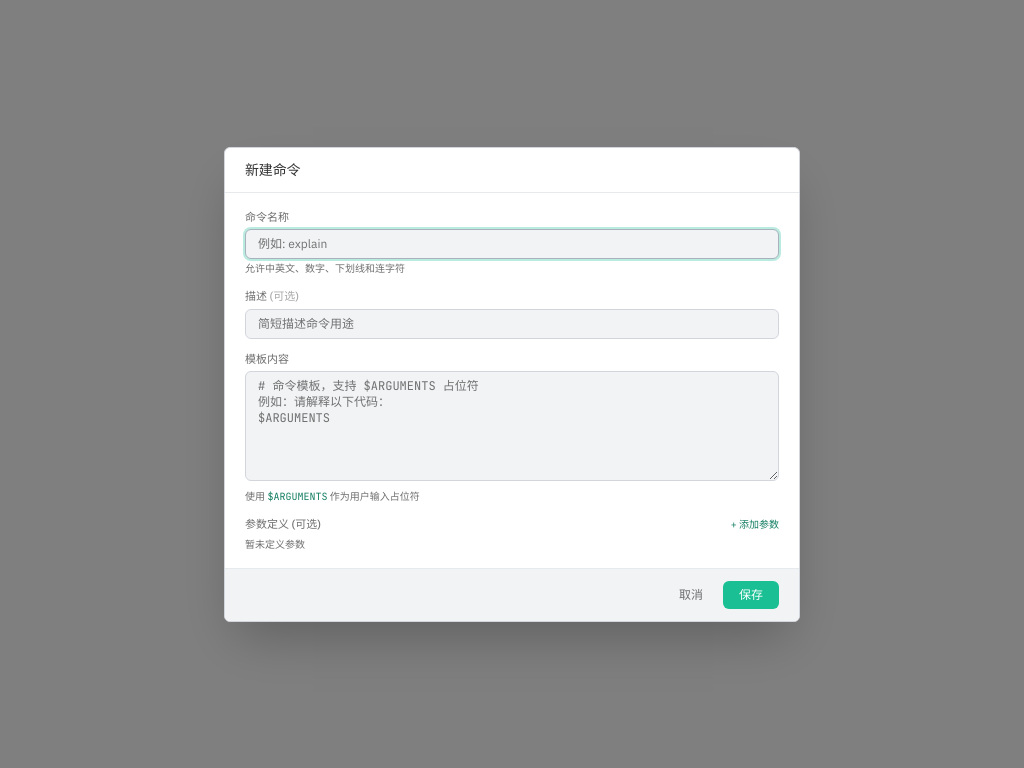
Test case: CommandEditModal 新建撞名即时提示 › 输入已存在的名称 → 立即内联报错，无需提交
The image size is (1024, 768).
Type "daily" into the field with placeholder "例如: explain". click: [512, 244]
box: x1=245 y1=229 x2=779 y2=259
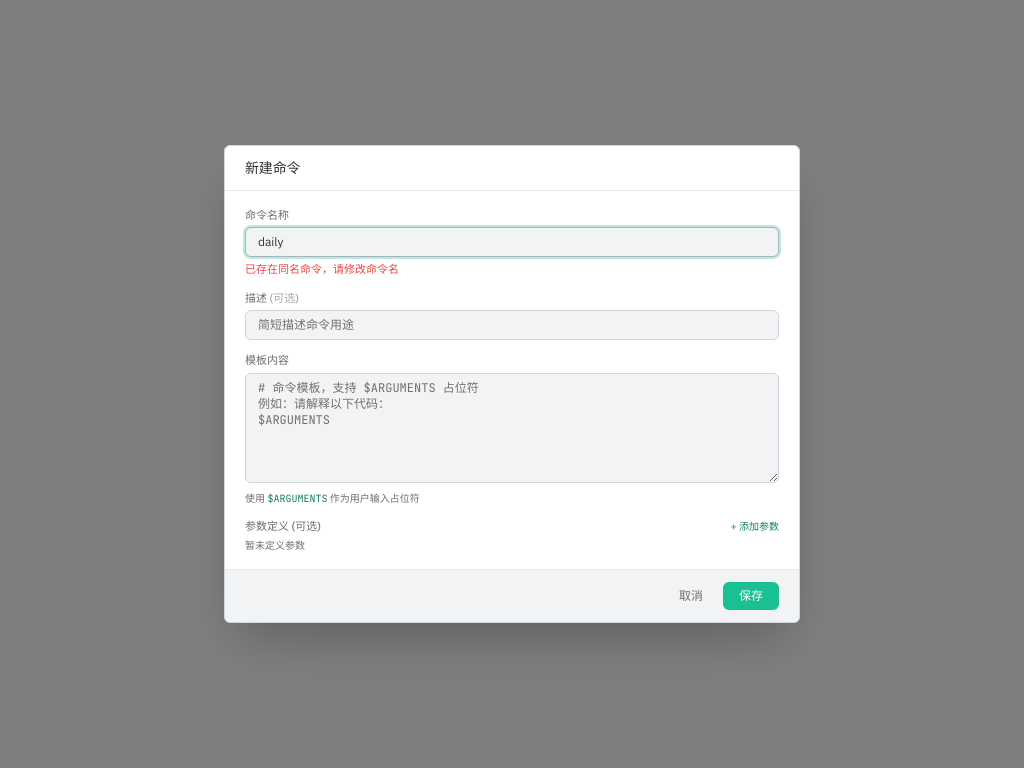
expect the message reads "已存在同名命令，请修改命令名": met, box x1=245 y1=262 x2=399 y2=276
